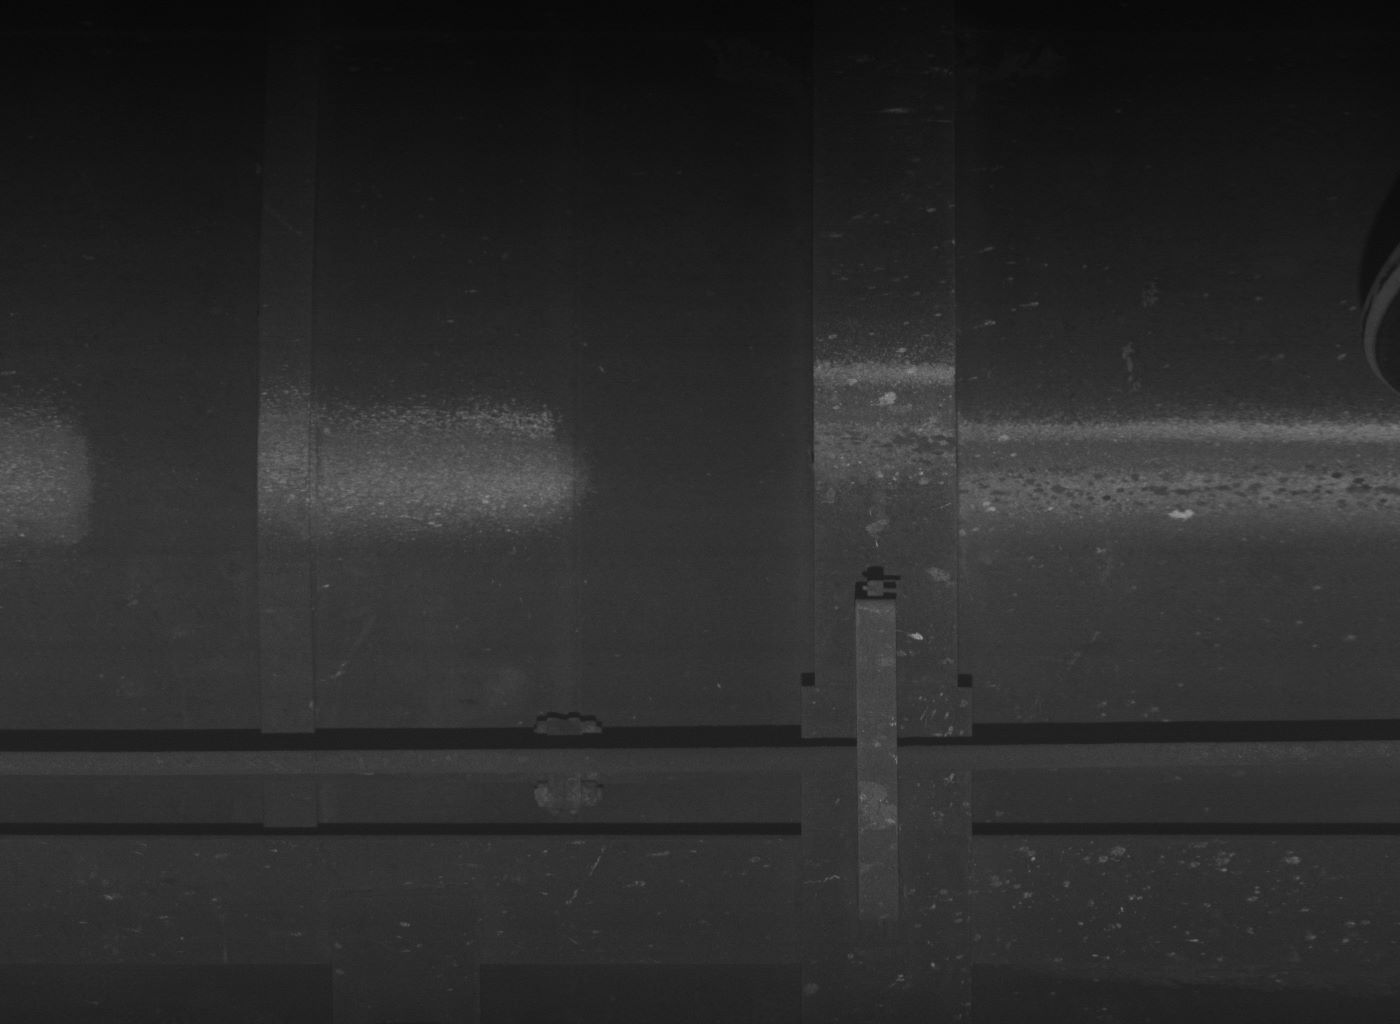normal: (853, 579, 902, 931)
